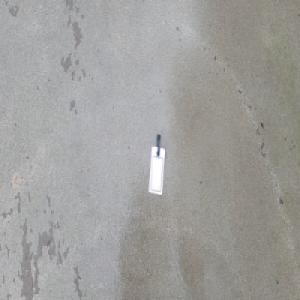LuggageTag: (148, 133, 166, 196)
